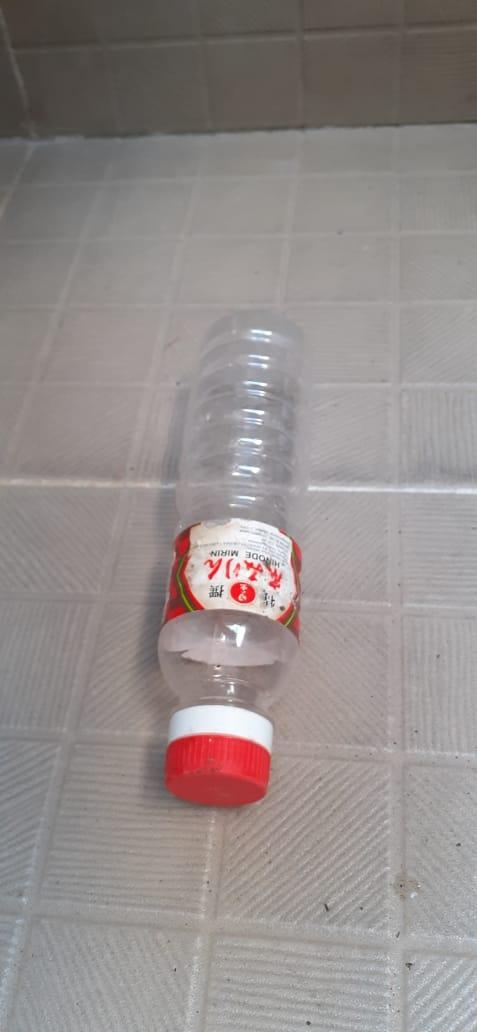Plastik: (163, 310, 318, 808)
